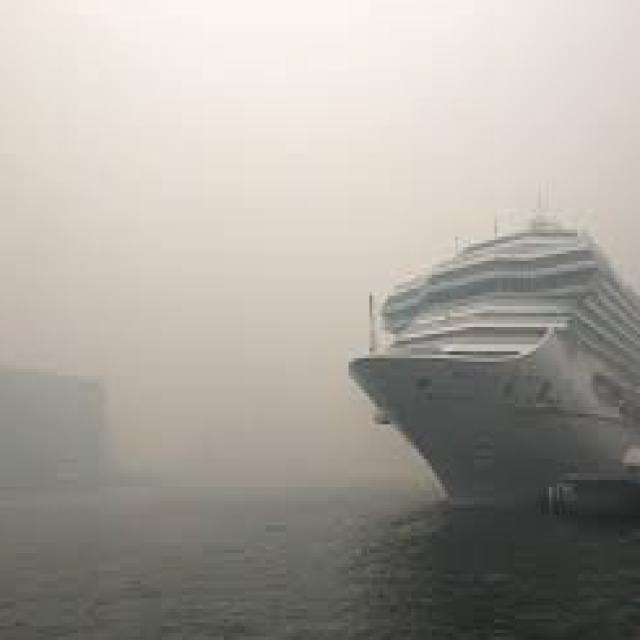passenger ship: (351, 195, 640, 501)
